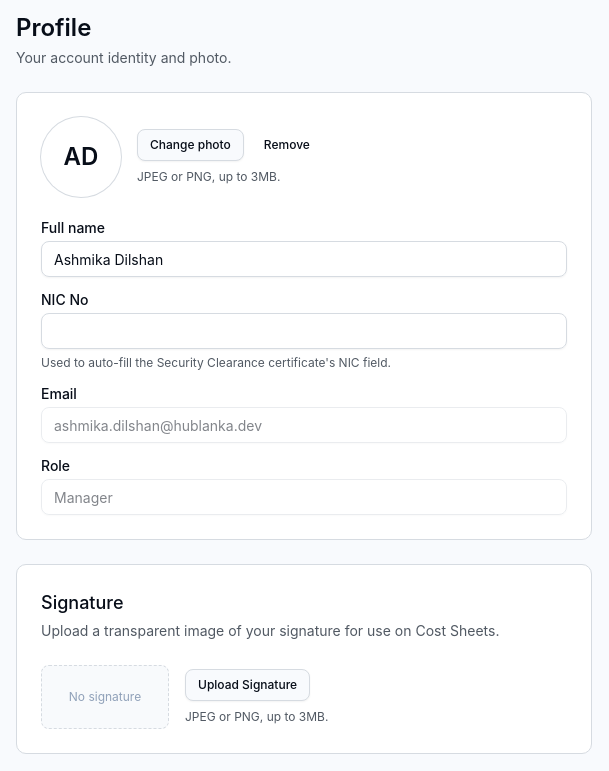
Test: ProfilePage › removes the photo via DELETE /me/avatar
Click the button "Remove": (287,145) [252,129,322,161]
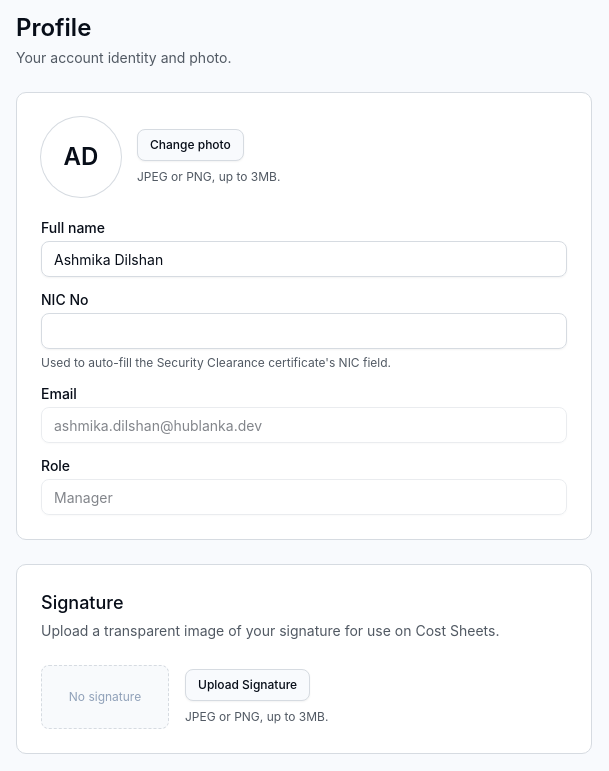
Expected: the button "Remove" is gone
